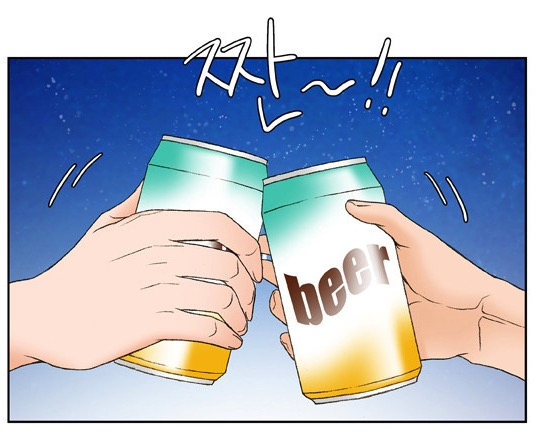beer: (256, 152, 424, 411)
can: (253, 154, 427, 408)
